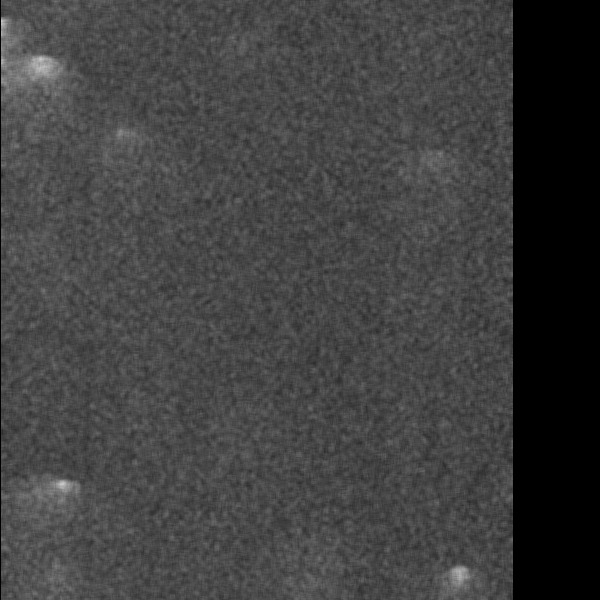spark: (9, 50, 64, 114), (43, 476, 80, 516), (109, 119, 139, 164), (444, 563, 475, 599)
